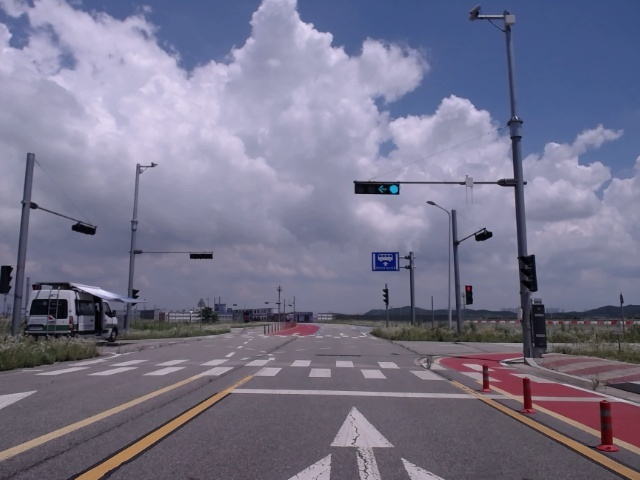all_green_4: (353, 181, 400, 194)
